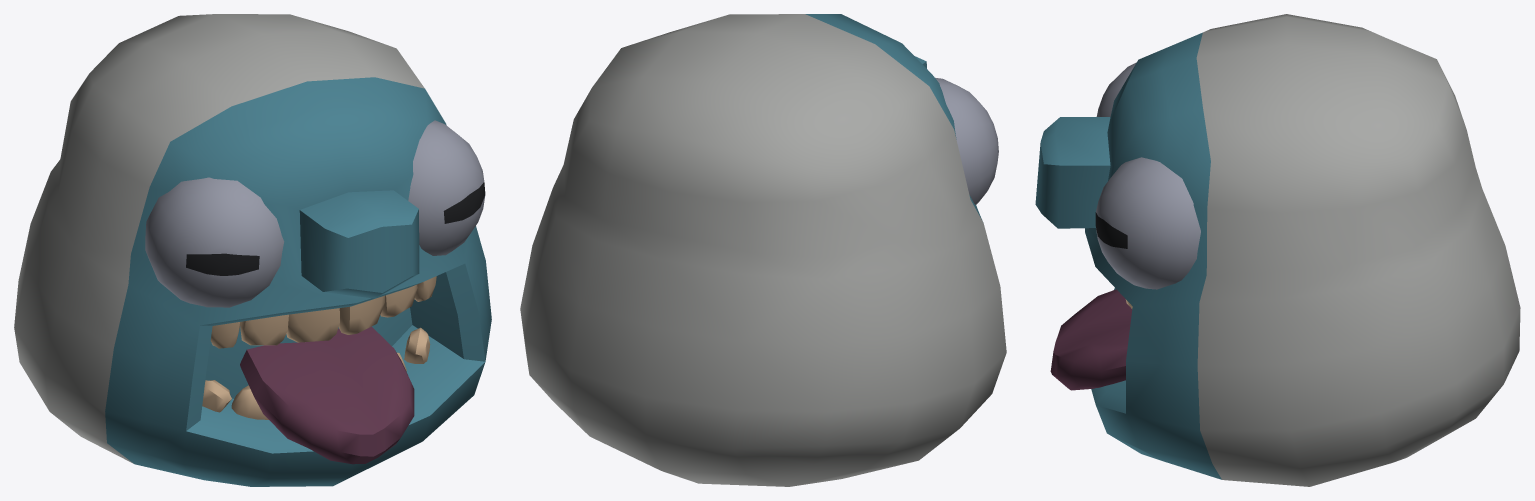
File: Yeti.obj
3 renders of one model, left to right at view 1: azimuth 30°, elevation 25°; view 2: azimuth 150°, elevation 25°; view 3: azimuth 270°, elevation 25°, orthographic. The views are drawn at different scales.
Parts seen in each view (by area): view 1: Yeti_Blob.001_Cube.000; view 2: Yeti_Blob.001_Cube.000; view 3: Yeti_Blob.001_Cube.000.
Boxes of the visible parts, x1,y1,x2,y2 form: Yeti_Blob.001_Cube.000: [14, 14, 491, 486]; Yeti_Blob.001_Cube.000: [520, 14, 1006, 486]; Yeti_Blob.001_Cube.000: [1035, 14, 1520, 486].
Bounding box in the file's own units: 2.55 × 2.47 × 2.59.
